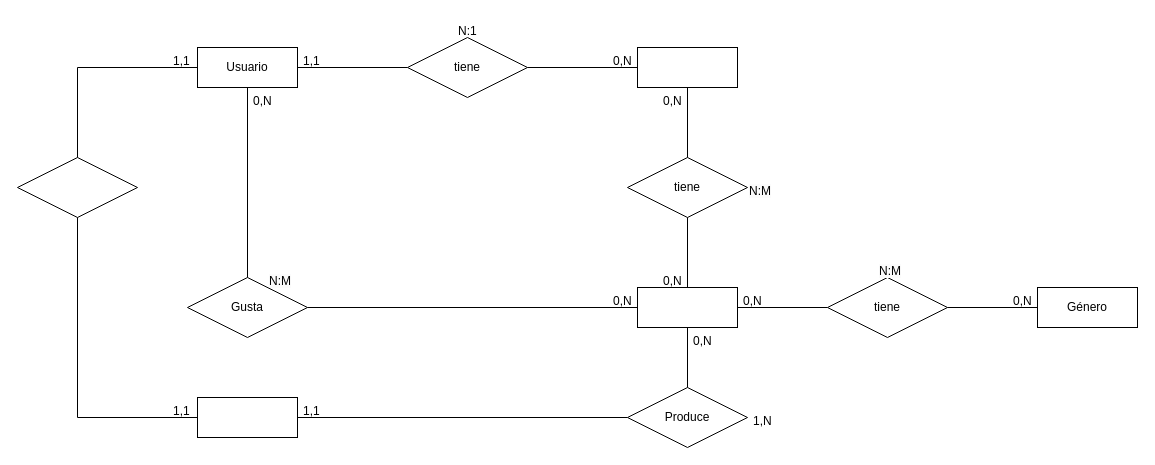
This 1155x465 diagram has some shape labels left out. The centre of each missing label's shape, as x and y in pixels:
Artista: (x=247, y=417)
es: (x=77, y=187)
Mezcla: (x=687, y=307)
Tracklist: (x=687, y=67)
